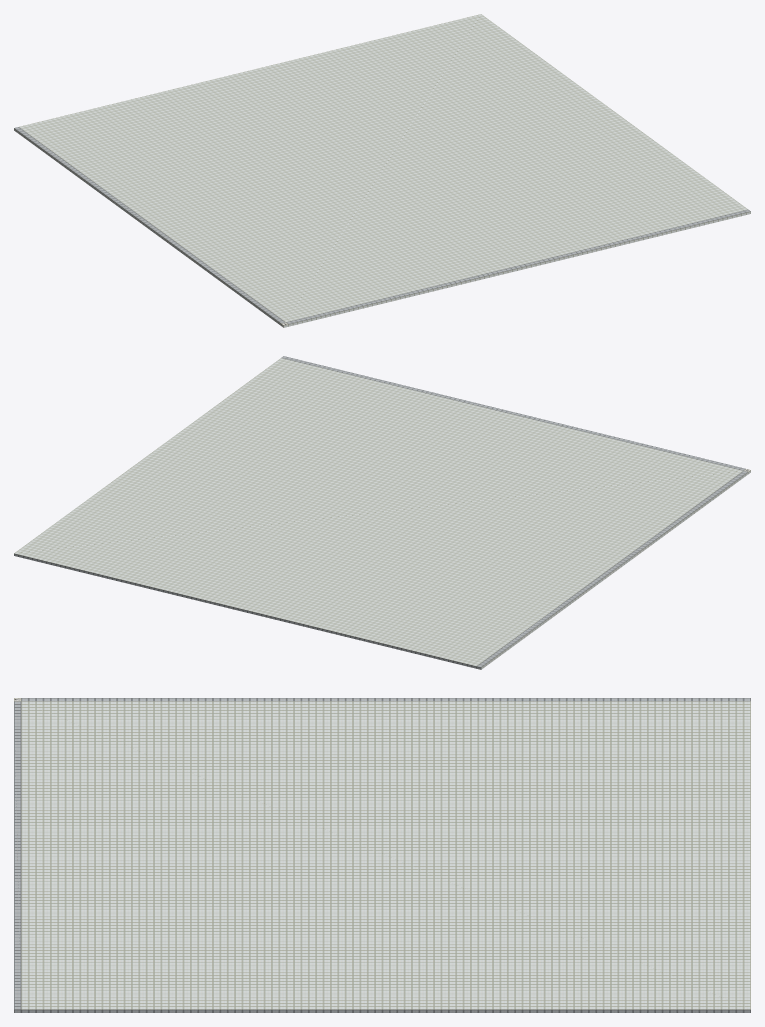
The model's file is Brick Flat 100x100.fbx.
3 renders of one model, top to bottom at view 1: azimuth 30°, elevation 25°; view 2: azimuth 150°, elevation 25°; view 3: azimuth 270°, elevation 25°, orthographic. The views are drawn at different scales.
Visible parts, largest first — view 1: Cube; view 2: Cube; view 3: Cube.
Boxes of the visible parts, x1=… form: Cube: x1=14, y1=14, x2=750, y2=327; Cube: x1=14, y1=356, x2=750, y2=669; Cube: x1=14, y1=698, x2=750, y2=1012.
Bounding box in the file's own units: 100 × 0.5 × 100.
